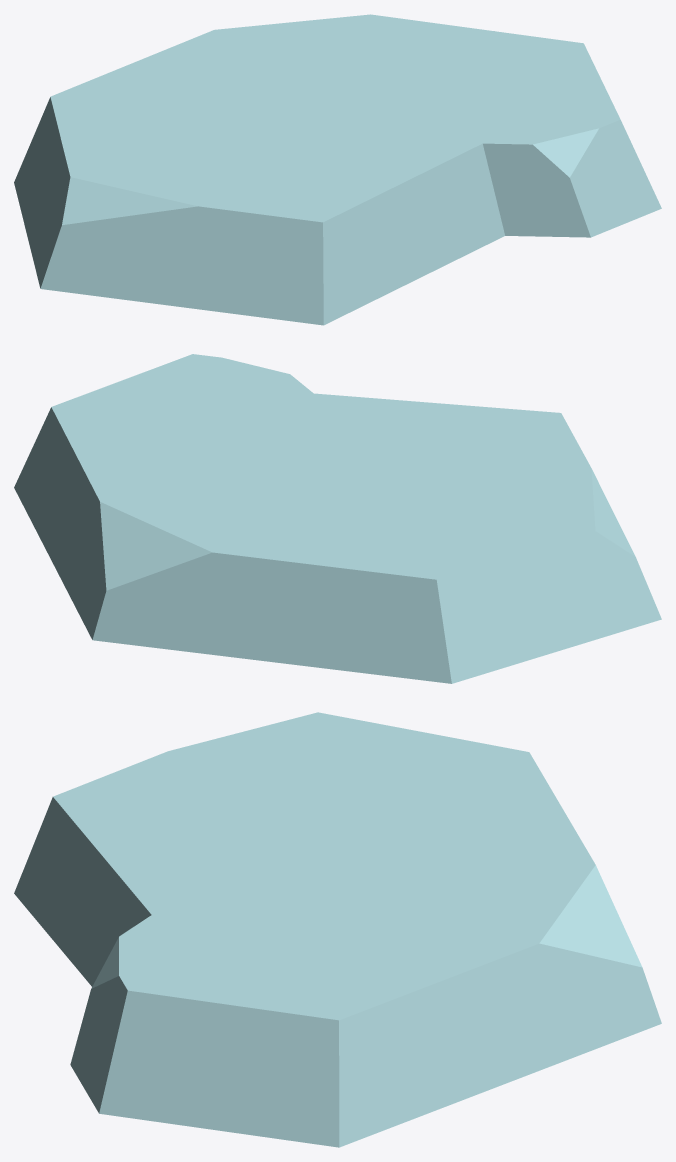
Rendered from stone_smallFlatC.dae.
3 views of the same model, one above another, from view 1: azimuth 30°, elevation 25°; view 2: azimuth 150°, elevation 25°; view 3: azimuth 270°, elevation 25° (orthographic). The views are drawn at different scales.
Parts seen in each view (by area): view 1: stone_smallFlatC; view 2: stone_smallFlatC; view 3: stone_smallFlatC.
Part boxes in pixels (box(x1,y1,x2,y2)): stone_smallFlatC: box(14, 14, 661, 325); stone_smallFlatC: box(14, 354, 661, 683); stone_smallFlatC: box(14, 712, 661, 1147).
Bounding box in the file's own units: 0.4704 × 0.0649 × 0.3603.
